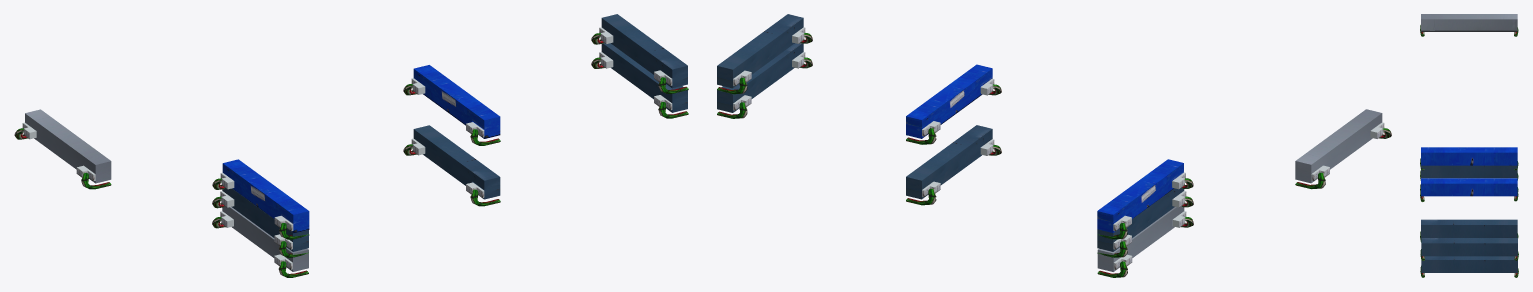
The model's file is box wires.fbx.
3 renders of one model, left to right at view 1: azimuth 30°, elevation 25°; view 2: azimuth 150°, elevation 25°; view 3: azimuth 270°, elevation 25°, orthographic. The views are drawn at different scales.
Parts seen in each view (by area): view 1: Box205; view 2: Box205; view 3: Box205.
Part boxes in pixels (bbox=[...]): Box205: bbox=[14, 14, 688, 277]; Box205: bbox=[717, 14, 1391, 277]; Box205: bbox=[1420, 14, 1518, 277].
Bounding box in the file's own units: 378 × 96.71 × 77.96.
1 material, 1 textured.
